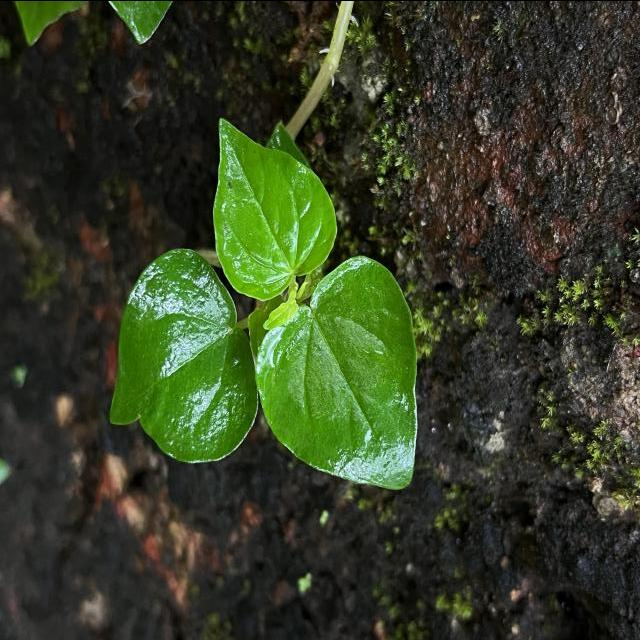Peperomia pellucida: (252, 249, 422, 494), (104, 244, 261, 466), (210, 112, 340, 304)
